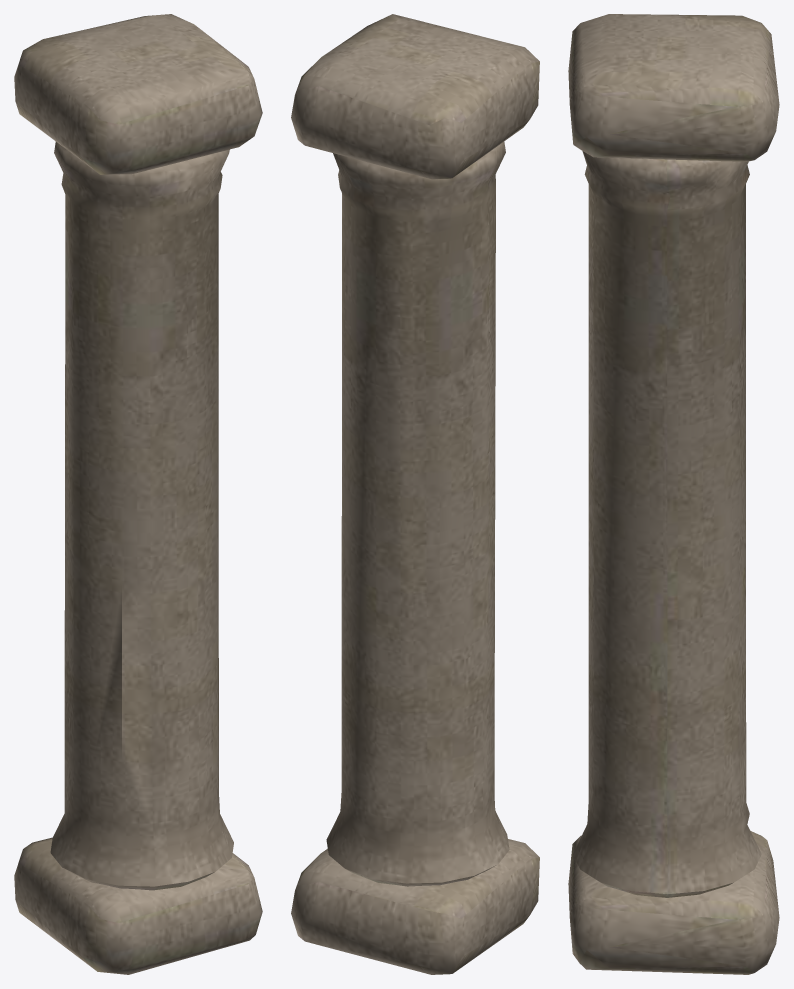
The model's file is mesh_pillar2.fbx.
3 views of the same model, side by side, from view 1: azimuth 30°, elevation 25°; view 2: azimuth 150°, elevation 25°; view 3: azimuth 270°, elevation 25° (orthographic). The views are drawn at different scales.
Visible parts, largest first — view 1: pillar2; view 2: pillar2; view 3: pillar2.
Part boxes in pixels (left/top/right/bottom): pillar2: left=14, top=14, right=262, bottom=974; pillar2: left=291, top=14, right=539, bottom=974; pillar2: left=568, top=14, right=779, bottom=974.
Bounding box in the file's own units: 65.97 × 319 × 67.98.
1 material, 1 textured.
